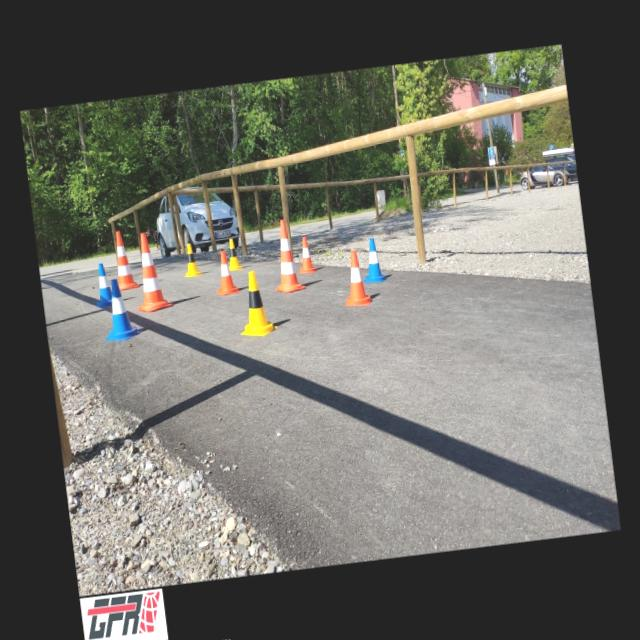blue_cone: (98, 276, 142, 342), (358, 236, 388, 284), (92, 262, 113, 307)
large_orange_cone: (129, 231, 172, 313), (267, 218, 306, 294), (110, 230, 139, 290)
orange_cone: (338, 250, 372, 308), (212, 249, 241, 295), (294, 236, 316, 274)
yellow_cone: (233, 268, 278, 338), (180, 242, 203, 276), (225, 237, 244, 271)
